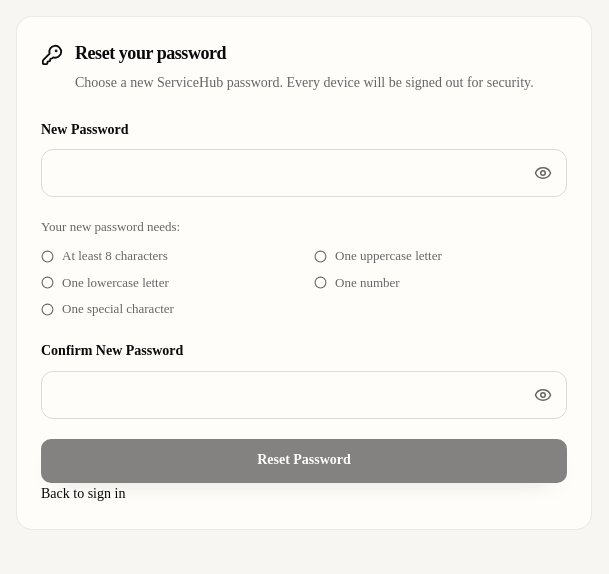
enforces strong matching passwords and shows success without losing the notice
Check: the button "Reset Password" is disabled, box [41,438,567,482]
Type "Safe-password-2026!" into the password field labelled "New Password". click: (304,173)
box: [41,149,567,197]
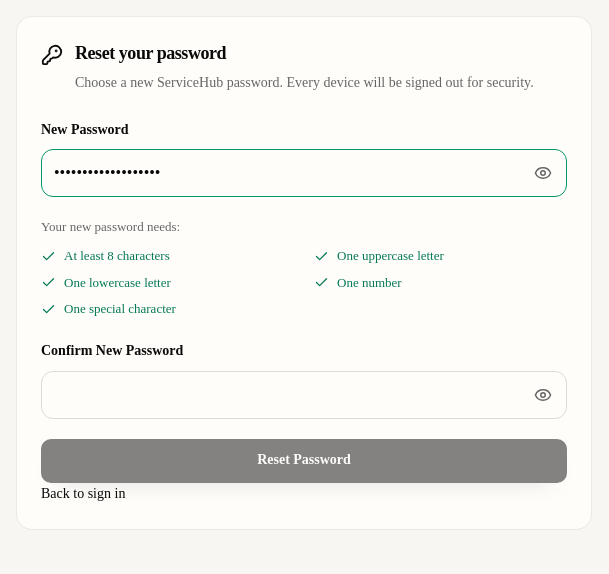
Type "different" into the password field labelled "Confirm New Password". click: (304,394)
box: [41,370,567,418]
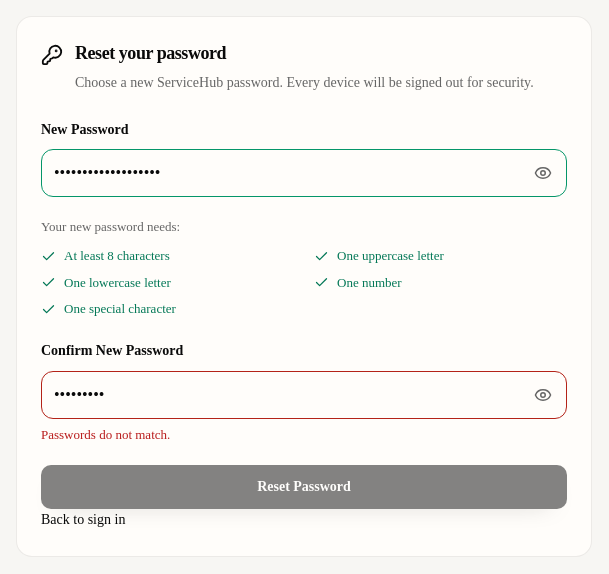
Check: the button "Reset Password" is disabled, box [41,465,567,509]
Check: the text "Passwords do not match." is shown, box [41,426,170,442]
Type "Safe-password-2026!" into the password field labelled "Confirm New Password". click: (304,394)
box: [41,370,567,418]
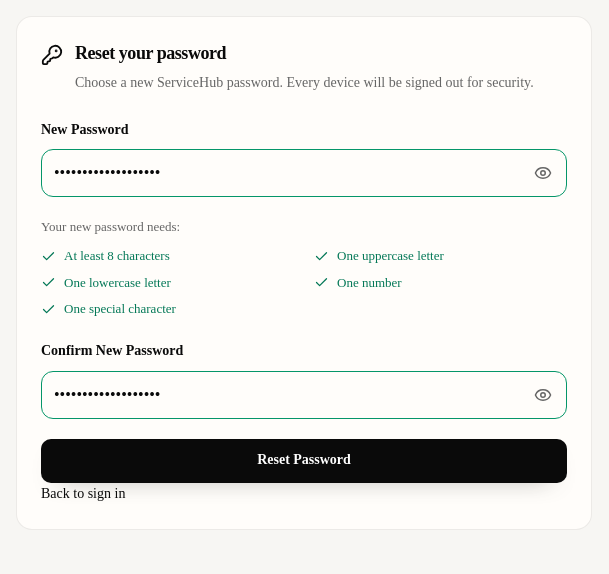
Check: the button "Reset Password" is enabled
Click the button "Reset Password". click: (304,460)
box: [41,438,567,482]
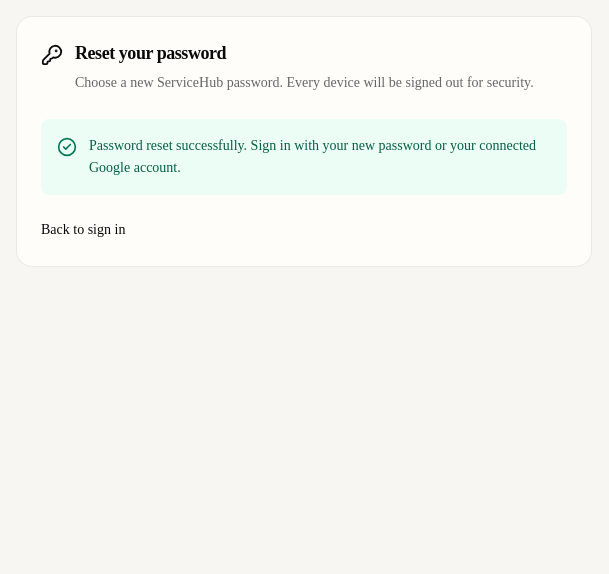
Check: the message shows "Password reset successfully.", box [89,138,536,175]
